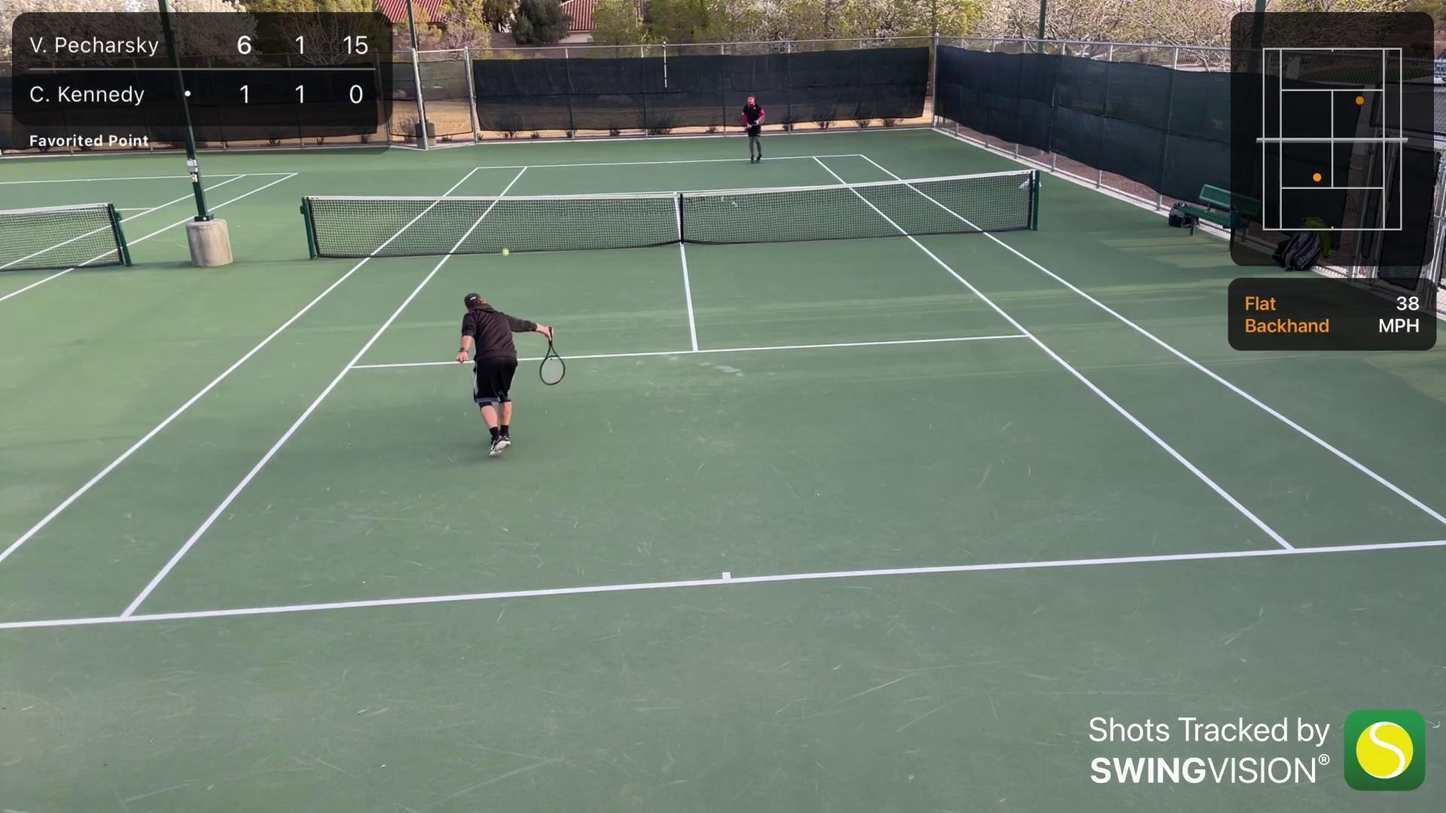ball: (503, 246, 509, 254)
